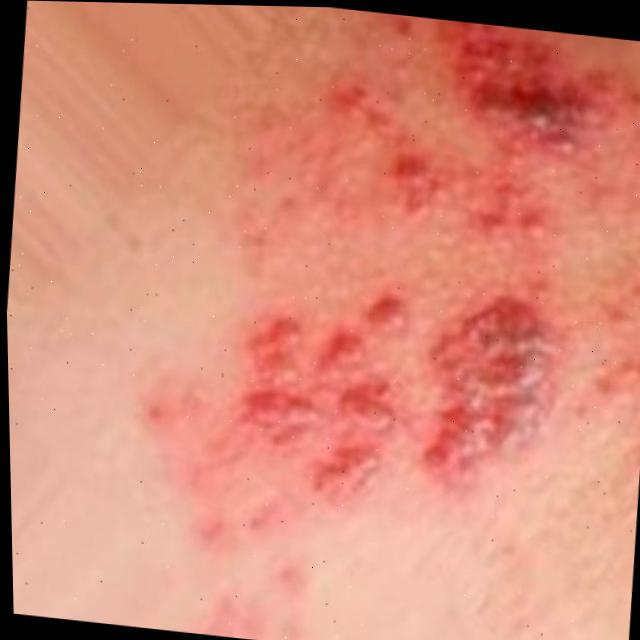Shingles: (104, 2, 640, 640)
